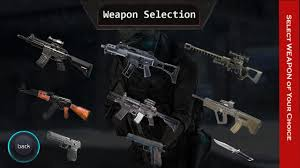gun: (99, 38, 182, 86), (13, 31, 94, 80), (185, 42, 263, 87), (105, 90, 180, 134), (189, 93, 261, 136), (17, 84, 90, 123), (125, 131, 165, 166), (46, 130, 81, 163)
